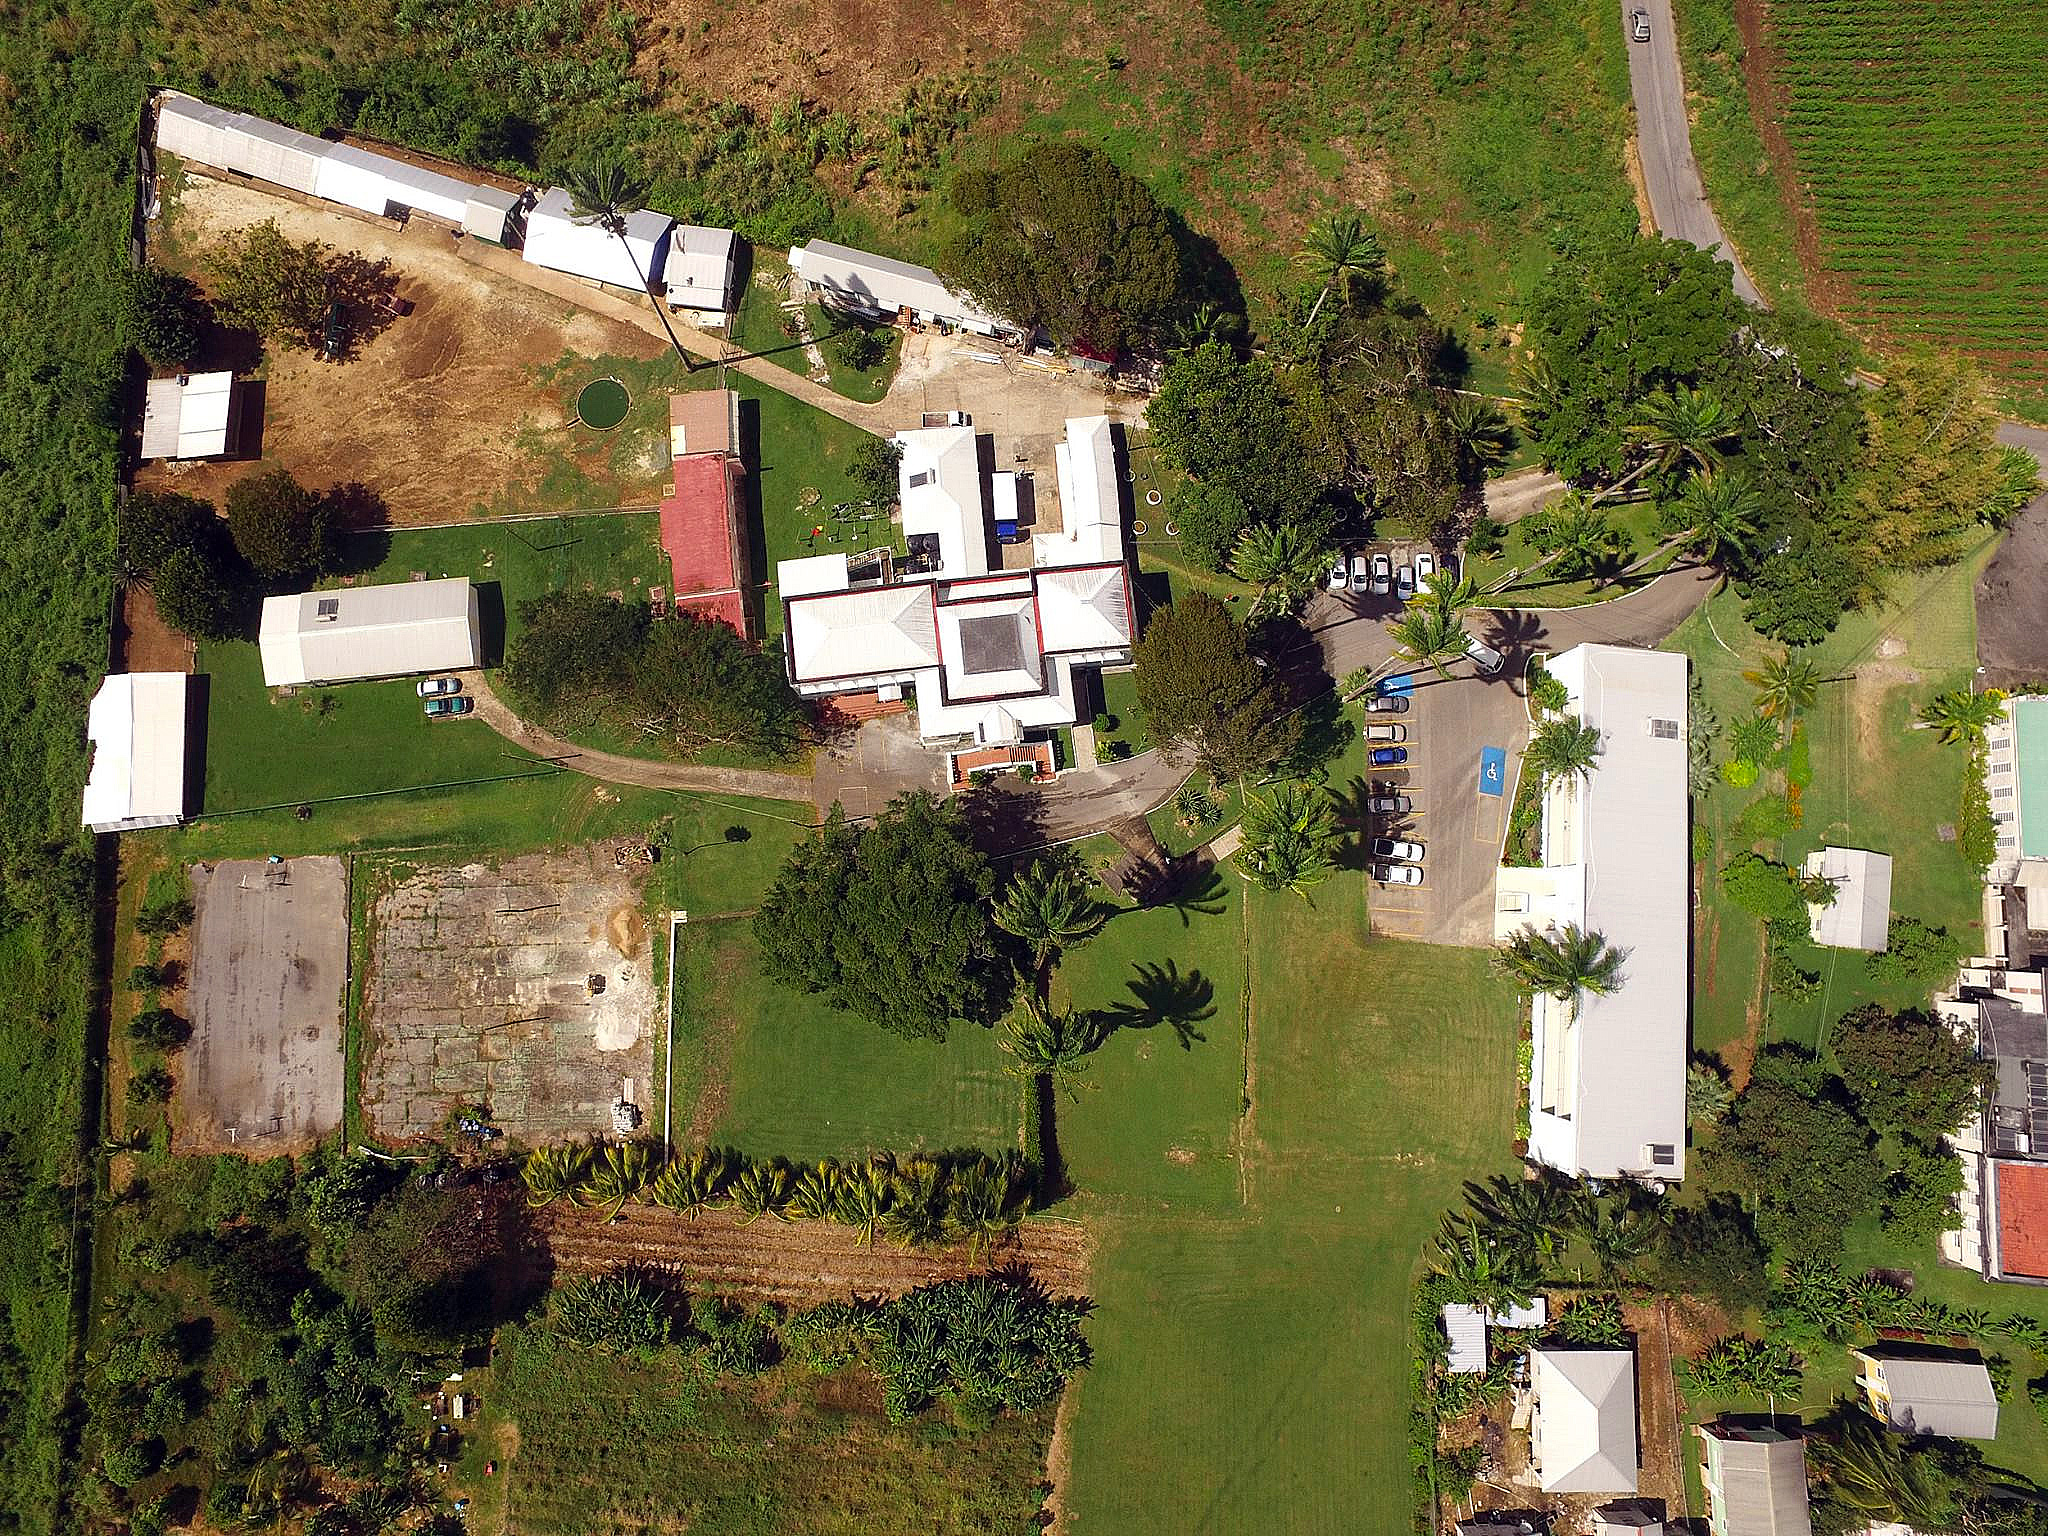build: (769, 403, 1156, 755), (147, 89, 755, 311), (1500, 636, 1734, 1191), (1959, 679, 2048, 1297), (784, 229, 1037, 347), (247, 579, 497, 694), (63, 665, 221, 844), (650, 381, 760, 636), (1842, 1326, 2019, 1454), (1514, 1338, 1650, 1502), (1687, 1409, 1808, 1536), (126, 371, 273, 474), (1780, 837, 1903, 958)
